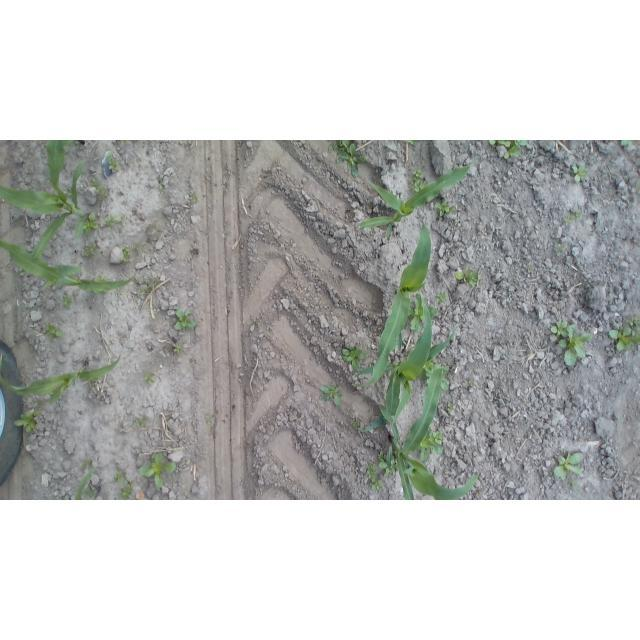Maize: (355, 290, 461, 438), (379, 366, 482, 500), (355, 218, 434, 391), (0, 140, 92, 275), (357, 157, 478, 242), (0, 238, 138, 293), (0, 351, 120, 405), (75, 467, 102, 500)
Weeds: (550, 317, 592, 368), (326, 141, 365, 180), (140, 452, 177, 490), (410, 292, 439, 332), (317, 380, 349, 409), (554, 450, 584, 479), (420, 426, 444, 462), (608, 325, 640, 351), (489, 140, 528, 160), (342, 342, 367, 372), (426, 361, 450, 391), (453, 264, 479, 288), (13, 410, 39, 434), (134, 276, 158, 301), (87, 178, 111, 203), (174, 307, 197, 331), (102, 213, 126, 233), (408, 168, 427, 192), (44, 320, 63, 341), (378, 453, 394, 477), (118, 478, 135, 500), (434, 201, 455, 218), (571, 160, 588, 181), (83, 212, 97, 236), (563, 210, 583, 224), (112, 465, 128, 482), (107, 152, 122, 170), (134, 412, 150, 428), (81, 242, 96, 258), (349, 414, 361, 432), (626, 314, 640, 329), (367, 463, 378, 482), (144, 371, 157, 386), (62, 293, 73, 310), (121, 246, 132, 263), (369, 479, 383, 491), (437, 290, 448, 305), (524, 261, 536, 273), (554, 242, 567, 252), (174, 341, 183, 354), (447, 402, 456, 414), (80, 457, 88, 470), (378, 451, 387, 462), (132, 242, 142, 251), (467, 379, 475, 389), (619, 140, 631, 146), (571, 481, 579, 490), (34, 400, 43, 408), (95, 275, 106, 281), (190, 193, 197, 202), (409, 140, 418, 146), (158, 181, 164, 189), (205, 411, 211, 418), (635, 180, 640, 188), (182, 490, 187, 496), (120, 141, 124, 144)
